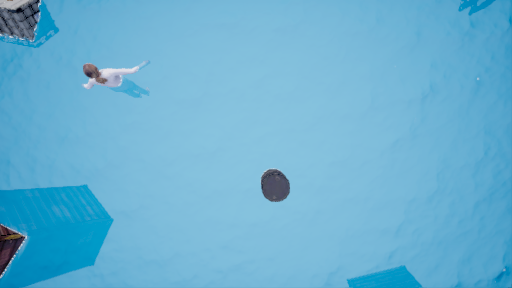person: (80, 62, 163, 105)
